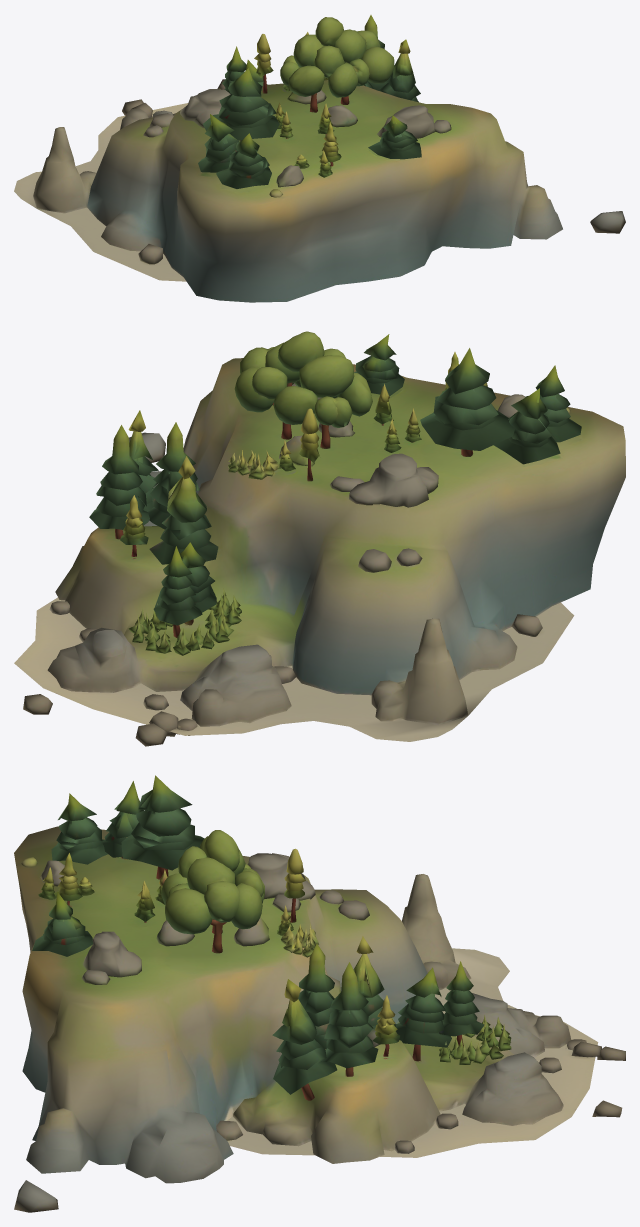
File: isle_10_p1.glb
3 renders of one model, top to bottom at view 1: azimuth 30°, elevation 25°; view 2: azimuth 150°, elevation 25°; view 3: azimuth 270°, elevation 25°, orthographic. The views are drawn at different scales.
Visible parts, largest first — view 1: tripo_node_9d63835e-6d43-4af9-a563-272a1b77efc1; view 2: tripo_node_9d63835e-6d43-4af9-a563-272a1b77efc1; view 3: tripo_node_9d63835e-6d43-4af9-a563-272a1b77efc1.
Part boxes in pixels (x1,y1,x2,y2): tripo_node_9d63835e-6d43-4af9-a563-272a1b77efc1: [14, 15, 625, 302]; tripo_node_9d63835e-6d43-4af9-a563-272a1b77efc1: [14, 331, 625, 746]; tripo_node_9d63835e-6d43-4af9-a563-272a1b77efc1: [14, 775, 625, 1212].
Bounding box in the file's own units: 0.998 × 0.4512 × 0.9902.
1 material, 1 textured.
